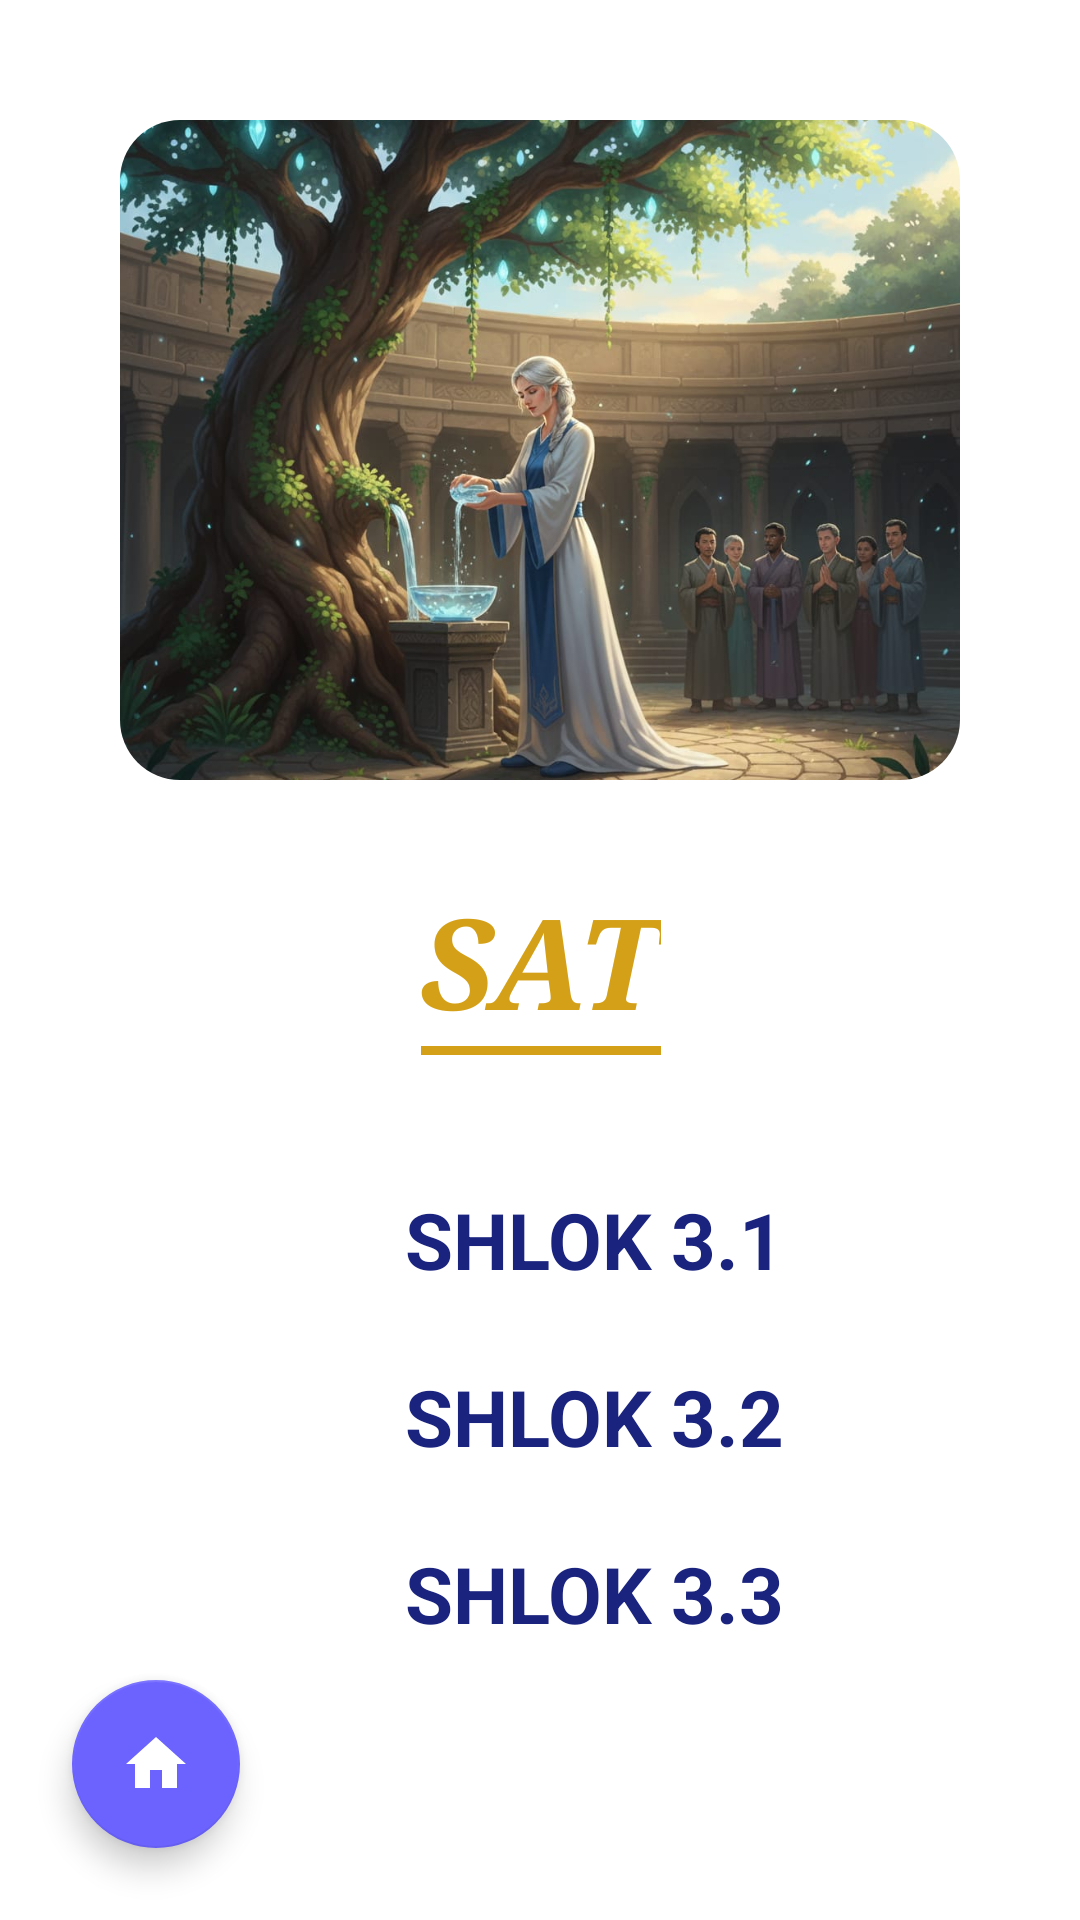

Screen size 1080*1920. Icon name, then its box in pixels as Rect(x1, y1, x2, y2):
Home: Rect(72, 1680, 240, 1848)
